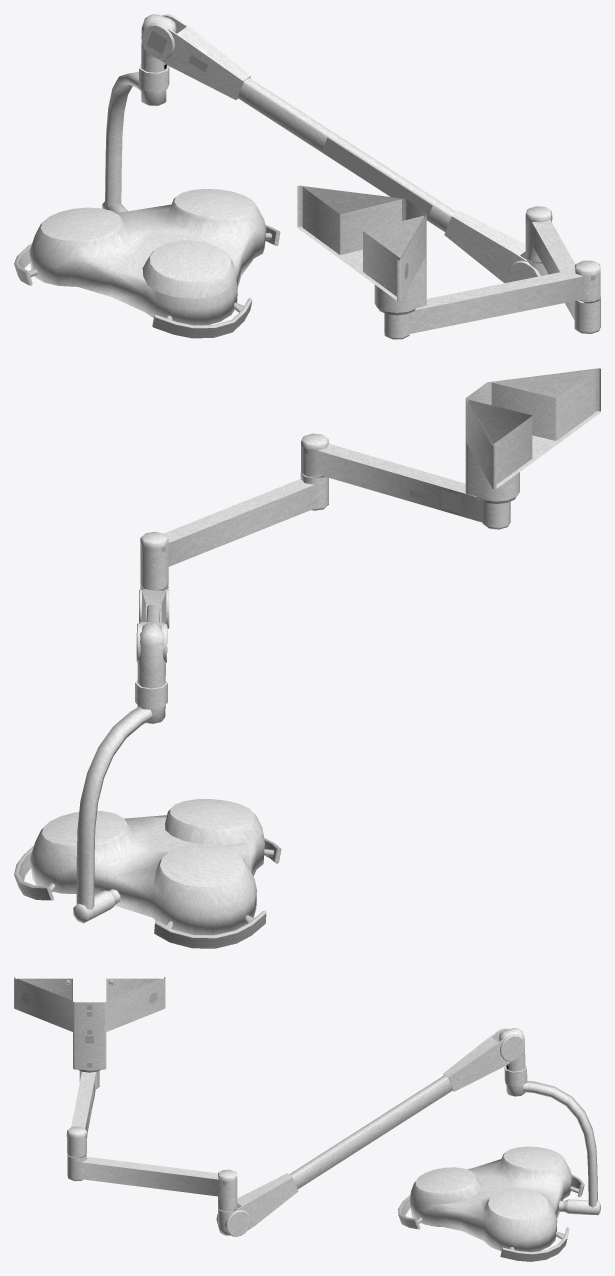
Rendered from LampArm.fbx.
The picture shows the model from 3 angles, top to bottom: view 1: azimuth 30°, elevation 25°; view 2: azimuth 150°, elevation 25°; view 3: azimuth 270°, elevation 25°; orthographic projection. The views are drawn at different scales.
Visible parts, largest first — view 1: LampArm; view 2: LampArm; view 3: LampArm.
Part boxes in pixels (x1=…): LampArm: x1=14, y1=14, x2=600, y2=339; LampArm: x1=14, y1=368, x2=600, y2=948; LampArm: x1=14, y1=977, x2=600, y2=1261.
Size of the model in its own units: 95.07 by 82.88 by 200.
